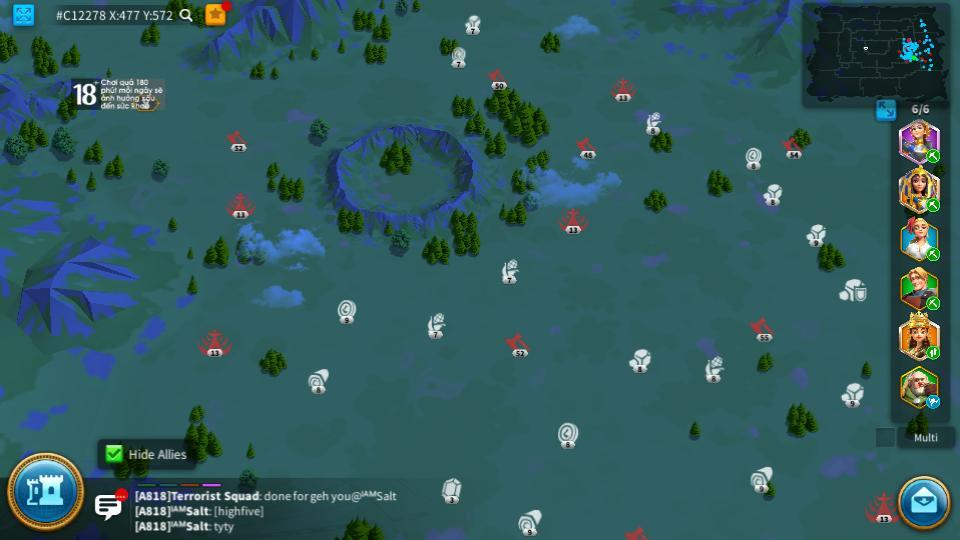gem-z-out: (440, 479, 462, 502)
march_idle: (925, 396, 942, 408)
march_marching: (925, 197, 941, 212), (925, 150, 941, 162), (926, 347, 941, 359), (925, 297, 941, 308)
